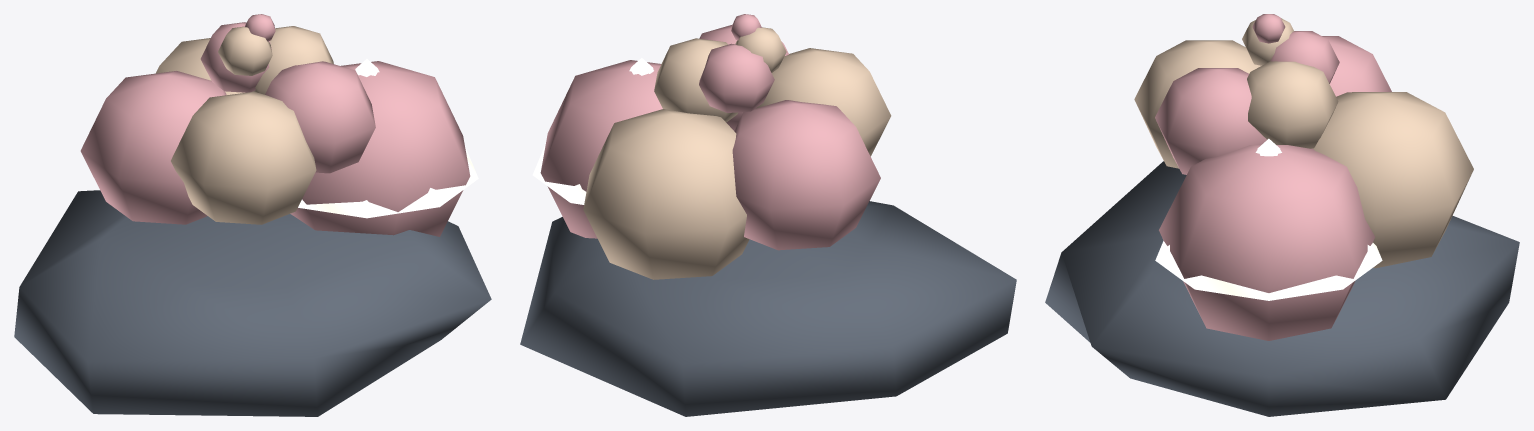
Rendered from xy_beach_conch.glb.
3 views of the same model, side by side, from view 1: azimuth 30°, elevation 25°; view 2: azimuth 150°, elevation 25°; view 3: azimuth 270°, elevation 25° (orthographic). The views are drawn at different scales.
Visible parts, largest first — view 1: Conch; view 2: Conch; view 3: Conch.
Boxes of the visible parts, x1,y1,x2,y2 form: Conch: [14, 14, 491, 416]; Conch: [520, 14, 1016, 416]; Conch: [1045, 14, 1519, 416].
Bounding box in the file's own units: 2.01 × 1.39 × 1.89.
